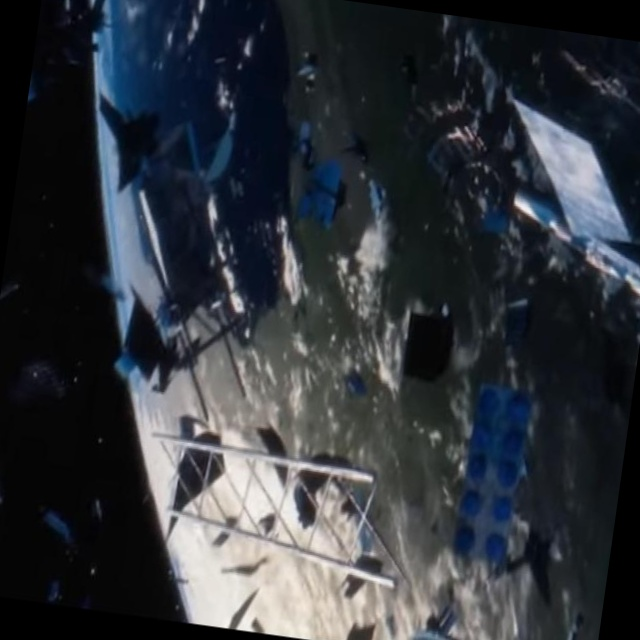large_debris: (61, 62, 296, 381), (112, 408, 439, 607), (442, 58, 640, 334), (450, 378, 549, 559)
small_debris: (293, 52, 330, 84), (39, 574, 73, 608), (233, 612, 274, 635), (40, 501, 68, 533), (88, 493, 114, 524), (344, 371, 370, 397), (352, 620, 380, 640), (0, 460, 3, 496)
